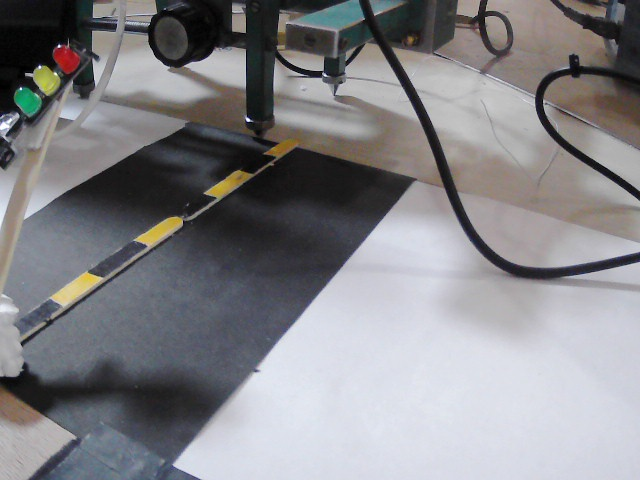black_strip: (86, 237, 149, 278), (12, 297, 59, 339), (173, 192, 213, 219), (235, 152, 276, 174)
mixed_lane: (16, 138, 293, 335)
traffic_light: (0, 27, 102, 161)
yellow_strip: (48, 270, 99, 306), (204, 167, 246, 198), (135, 215, 183, 242), (264, 141, 298, 161)
